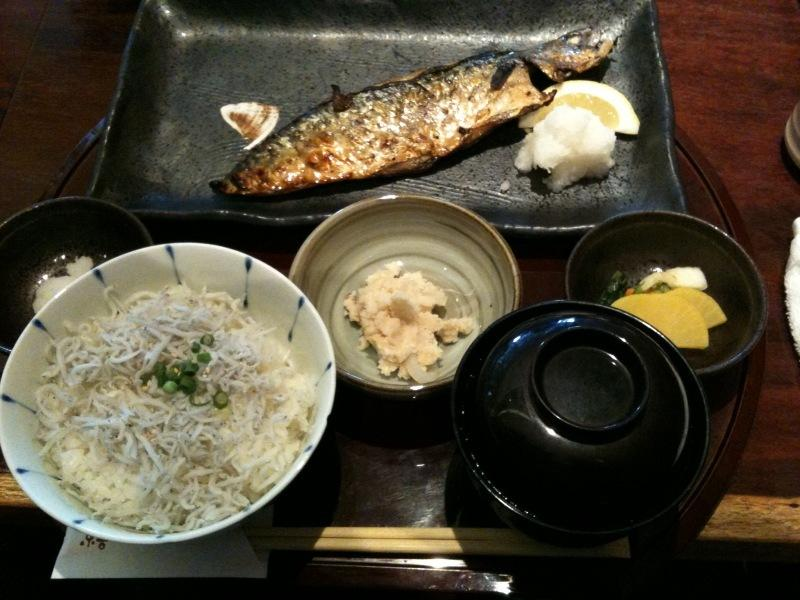rice: (35, 285, 313, 533)
